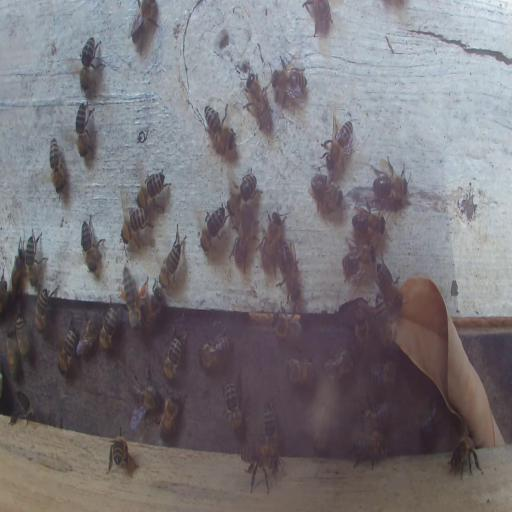bee: (239, 441, 282, 493), (119, 262, 149, 332), (372, 156, 412, 208), (323, 107, 354, 173), (270, 55, 308, 106), (160, 225, 188, 289), (202, 104, 236, 154), (447, 432, 482, 479), (135, 170, 171, 212), (230, 216, 258, 270), (375, 256, 404, 308), (106, 430, 137, 478), (119, 204, 152, 249), (78, 36, 104, 92), (80, 216, 105, 274), (199, 203, 227, 254), (197, 328, 231, 370), (161, 327, 187, 381), (310, 172, 344, 213), (129, 0, 159, 46), (342, 238, 373, 282), (23, 230, 46, 289), (223, 378, 248, 432), (277, 238, 298, 300), (374, 291, 394, 356), (244, 72, 268, 126), (57, 316, 78, 377), (260, 211, 287, 258), (74, 100, 95, 160), (353, 431, 387, 468), (226, 176, 259, 214), (368, 358, 400, 396), (352, 204, 387, 238), (130, 370, 157, 413), (312, 400, 332, 458), (324, 343, 354, 380), (271, 306, 302, 341), (159, 390, 180, 441), (302, 0, 333, 34), (361, 399, 389, 434), (284, 356, 316, 386), (34, 285, 54, 333), (48, 136, 64, 196), (99, 299, 117, 351), (263, 398, 279, 456), (11, 242, 26, 298), (78, 316, 98, 357), (355, 303, 368, 350), (16, 312, 29, 359), (1, 274, 7, 309)
